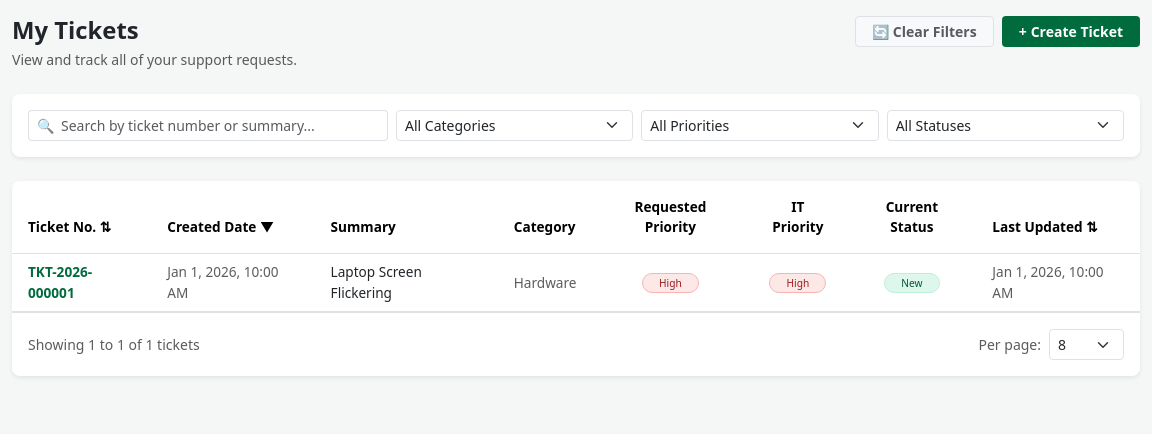
Test: TicketListPage (My Tickets) Component › shows a distinct no-results message when filters exclude every existing ticket
Expected: the link "TKT-2026-000001" is shown, x1=28 y1=262 x2=92 y2=302
In the field with placeholder "Search by ticket number or summary...": {"x": 224, "y": 125} x1=61 y1=110 x2=388 y2=141, type "nonexistent-search-term"
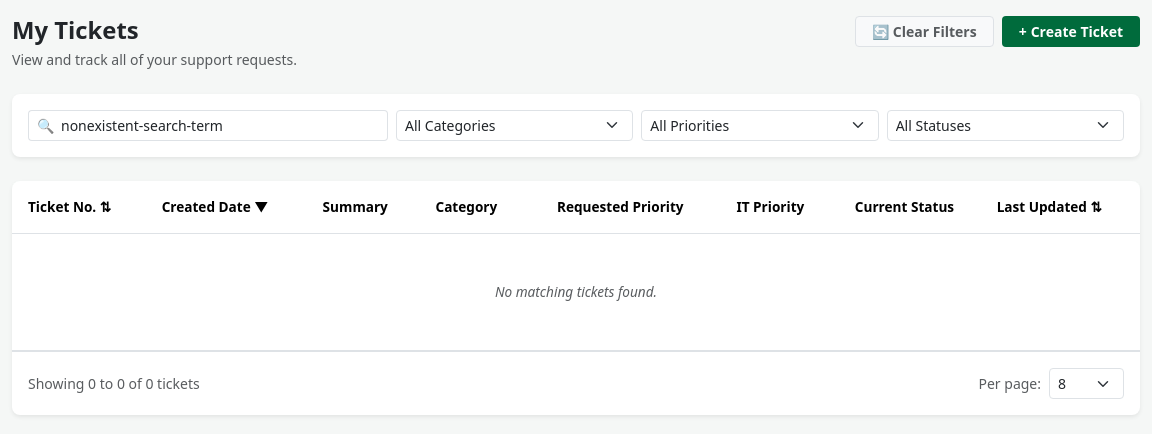
Result: the text "No matching tickets found." is shown at x1=12 y1=234 x2=1140 y2=351
